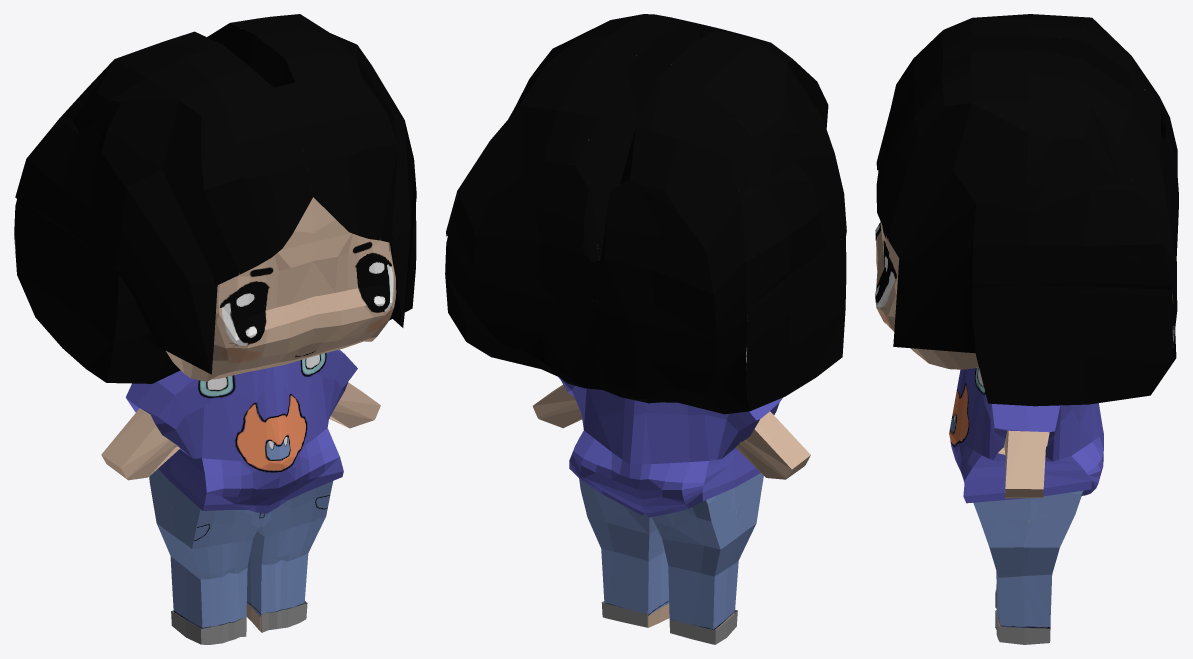
Rendered from Purple_tallversion15.fbx.
The picture shows the model from 3 angles, left to right: view 1: azimuth 30°, elevation 25°; view 2: azimuth 150°, elevation 25°; view 3: azimuth 270°, elevation 25°; orthographic projection.
Parts seen in each view (by area): view 1: hair, base, shirt, pants, shoes; view 2: hair, base, shirt, pants, shoes; view 3: hair, shirt, base, pants, shoes.
Part boxes in pixels (x1,y1,x2,y2): hair: [14, 14, 416, 383]; base: [101, 197, 396, 631]; shirt: [125, 349, 357, 513]; pants: [150, 481, 333, 628]; shoes: [171, 601, 307, 644]; hair: [445, 14, 846, 414]; base: [532, 384, 810, 644]; shirt: [558, 377, 782, 517]; pants: [654, 475, 763, 629]; shoes: [601, 601, 737, 644]; hair: [876, 14, 1178, 406]; shirt: [949, 367, 1103, 503]; base: [875, 221, 1083, 628]; pants: [973, 498, 1073, 627]; shoes: [995, 584, 1050, 644].
Size of the model in its own units: 1.45 by 1.26 by 2.65.
1 material, 1 textured.
